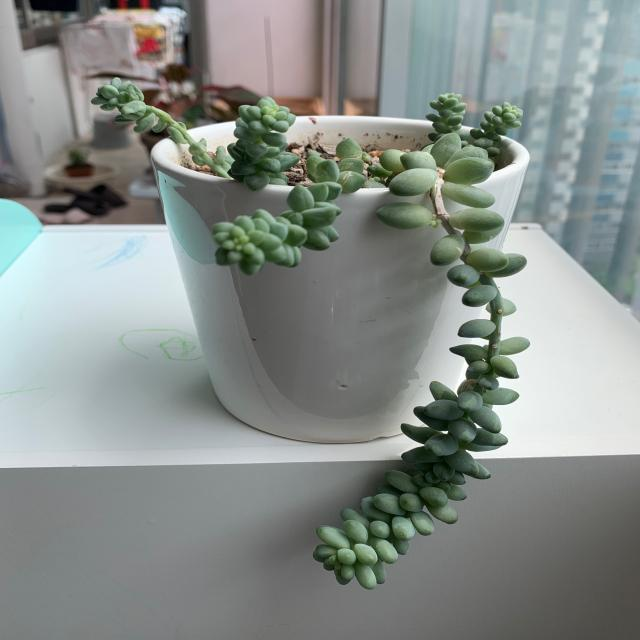Sedum: (314, 132, 530, 589), (212, 139, 370, 275), (91, 78, 232, 179), (228, 96, 299, 190), (426, 92, 522, 158), (426, 92, 466, 141)
